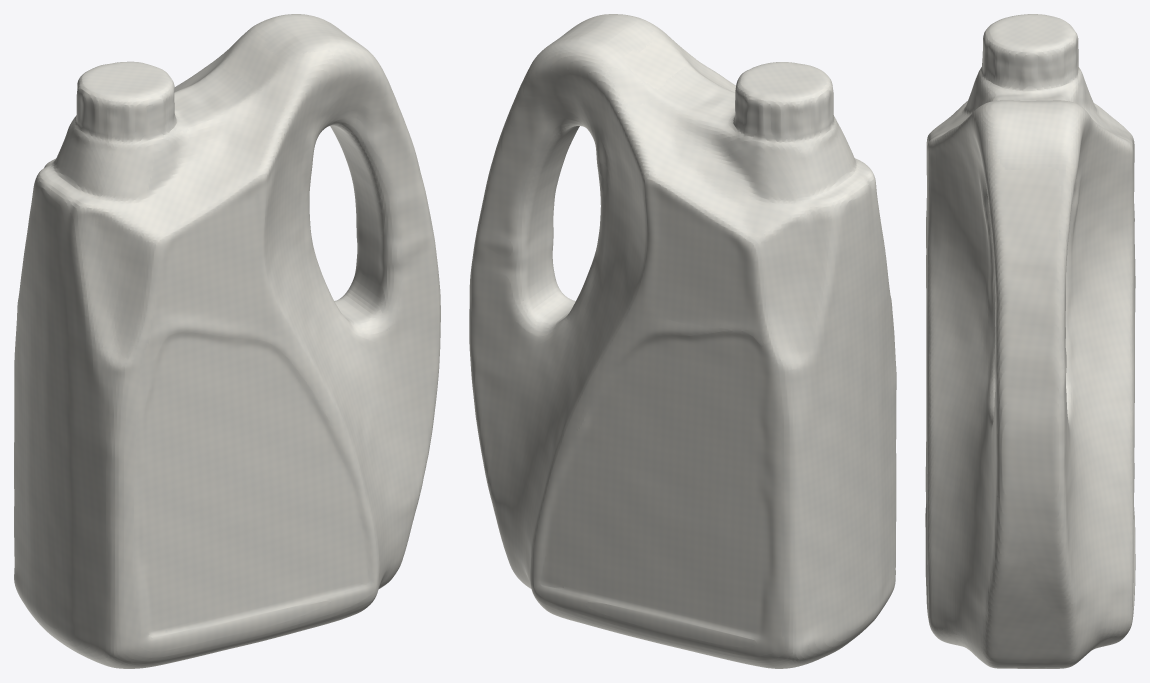
Rendered from oil-bottle-procedural.glb.
3 views of the same model, side by side, from view 1: azimuth 30°, elevation 25°; view 2: azimuth 150°, elevation 25°; view 3: azimuth 270°, elevation 25° (orthographic). The views are drawn at different scales.
Visible parts, largest first — view 1: Food Oil Can - photo matched 4K colour grade; view 2: Food Oil Can - photo matched 4K colour grade; view 3: Food Oil Can - photo matched 4K colour grade.
Part boxes in pixels (x1,y1,x2,y2): Food Oil Can - photo matched 4K colour grade: [14, 14, 440, 668]; Food Oil Can - photo matched 4K colour grade: [469, 14, 896, 668]; Food Oil Can - photo matched 4K colour grade: [925, 14, 1135, 668].
Bounding box in the file's own units: 1.4 × 1.96 × 0.6985.
3 materials, 3 textured.
